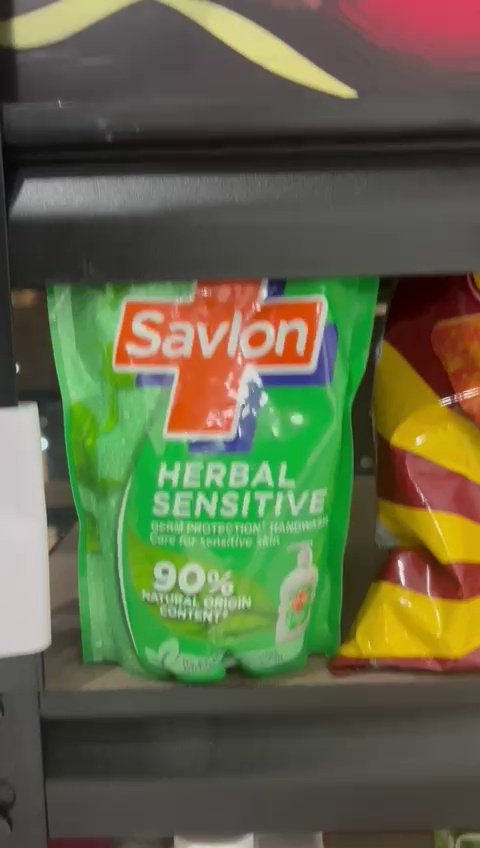Savlon Herbal: (74, 275, 382, 670)
